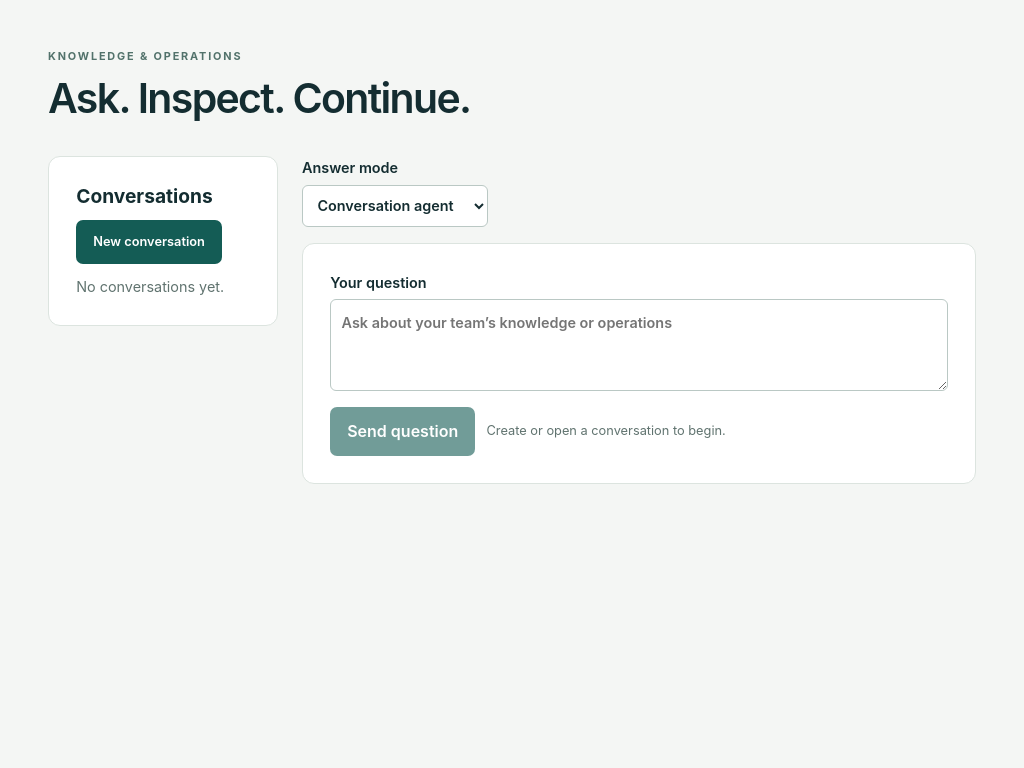
abstention is distinct from a supported answer
Select "Knowledge question" in the dropdown labelled "Answer mode" at (395, 206), box left=302, top=185, right=488, bottom=227
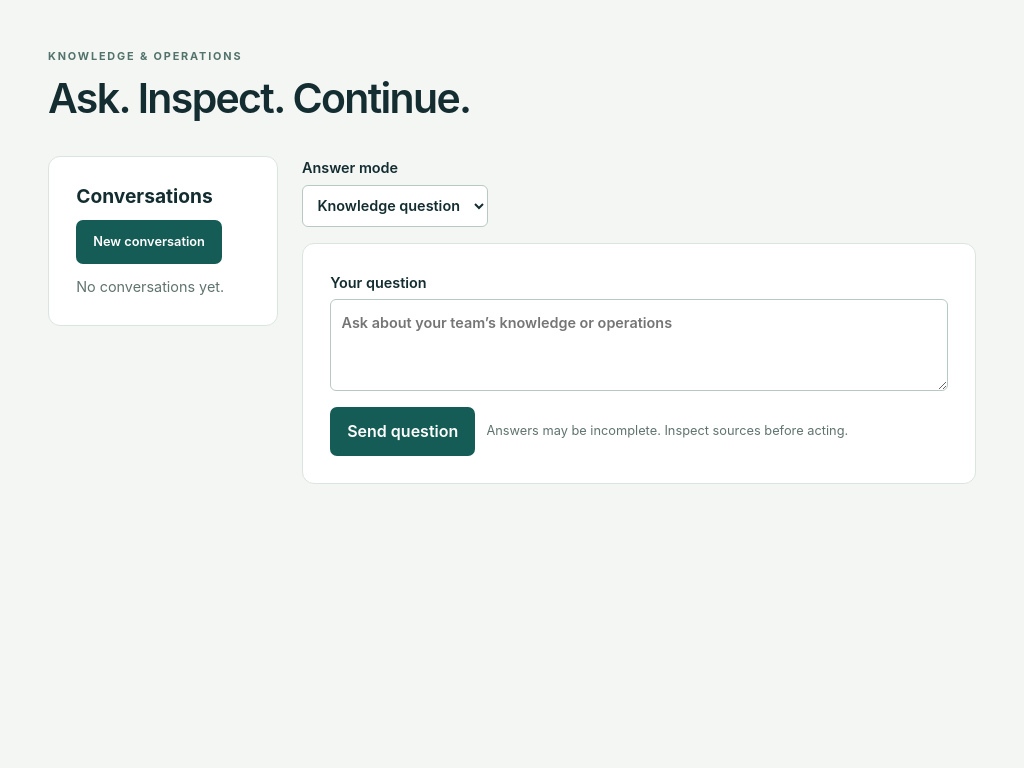
Type "Unknown" into the text box labelled "Your question".
click(639, 345); type("Unknown")  # box left=330, top=299, right=948, bottom=391
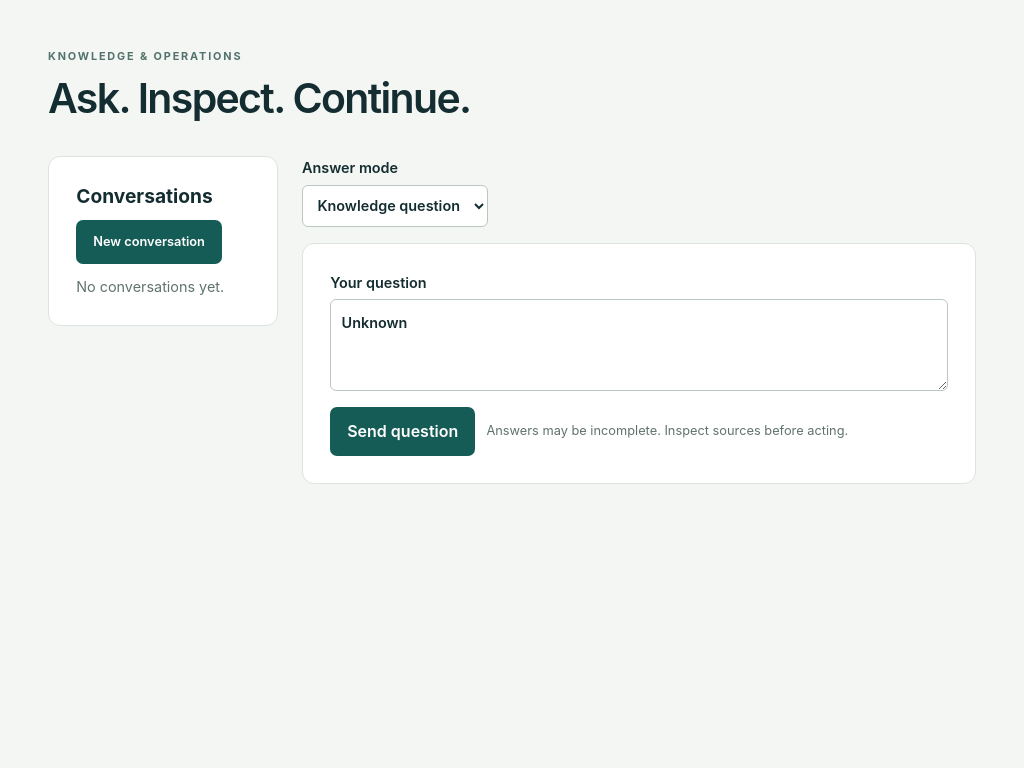
Click the button "Send question".
click(403, 431)  # box left=330, top=407, right=475, bottom=456
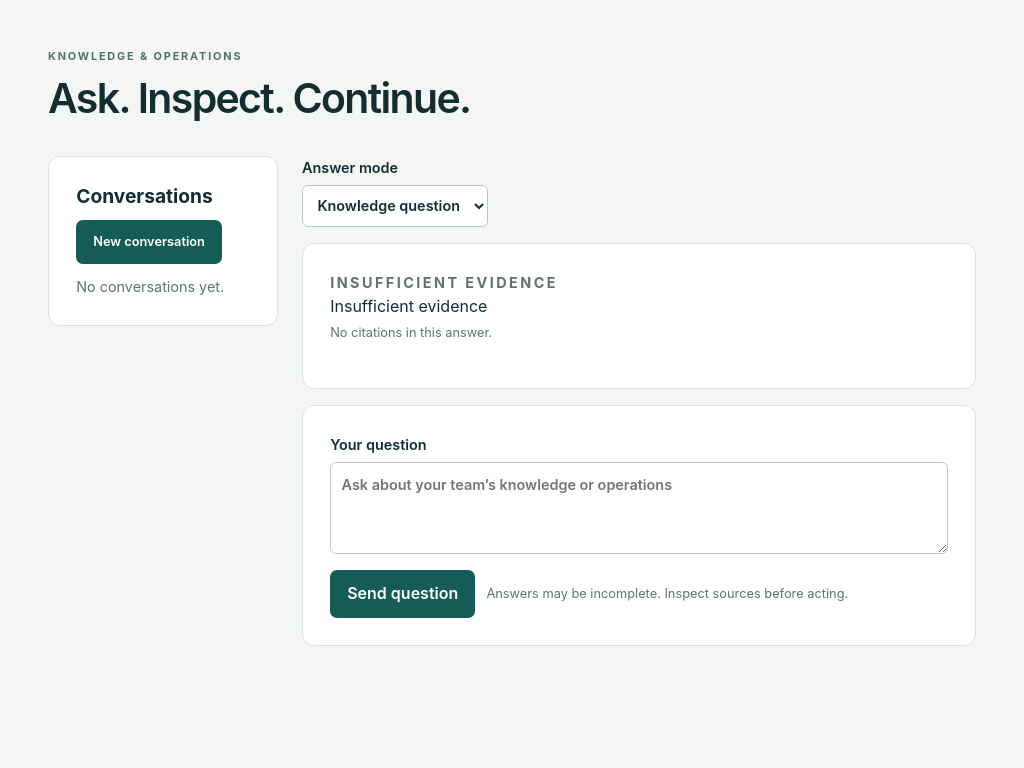
Expected: the text "INSUFFICIENT EVIDENCE" is shown, left=330, top=274, right=558, bottom=291
Expected: the text "No citations in this answer." is shown, left=330, top=325, right=492, bottom=340
